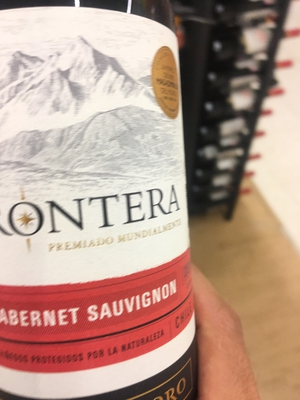frontera cabernet sauvignon: (1, 6, 189, 395)
